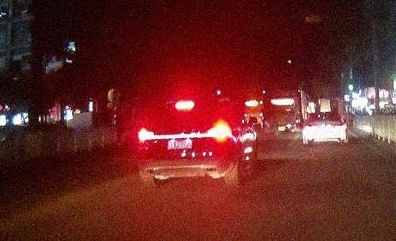L_light: (138, 129, 154, 141)
R_light: (208, 124, 232, 137)
T_light: (175, 101, 193, 109)
night-right: (137, 98, 232, 186)
